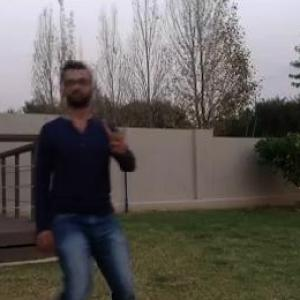takeoff-hand: (102, 110, 138, 154)
